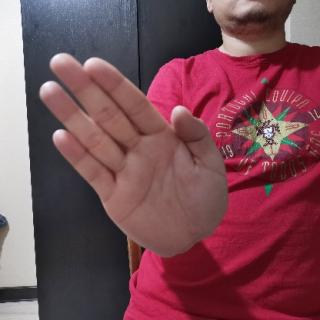SEEN: (33, 48, 233, 258)
